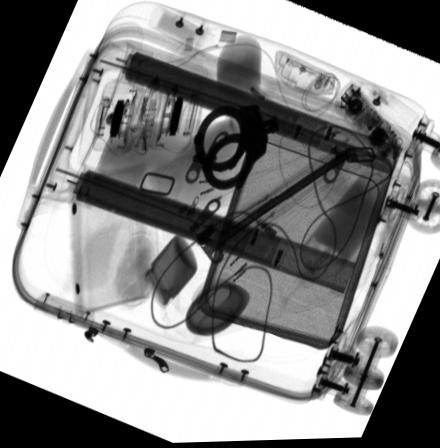HandCuffs: (189, 105, 282, 197)
